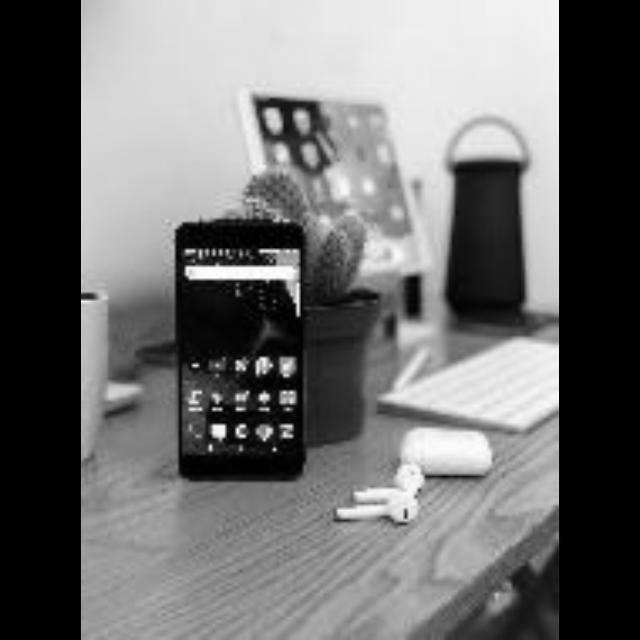fake: (150, 199, 322, 507)
